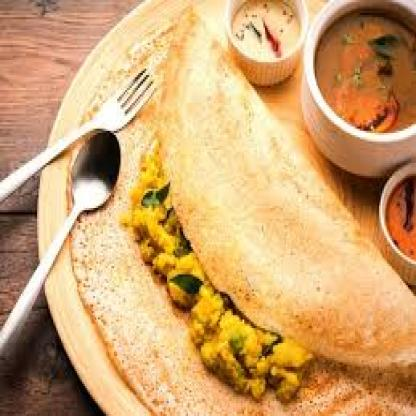dosa: (67, 5, 416, 416)
